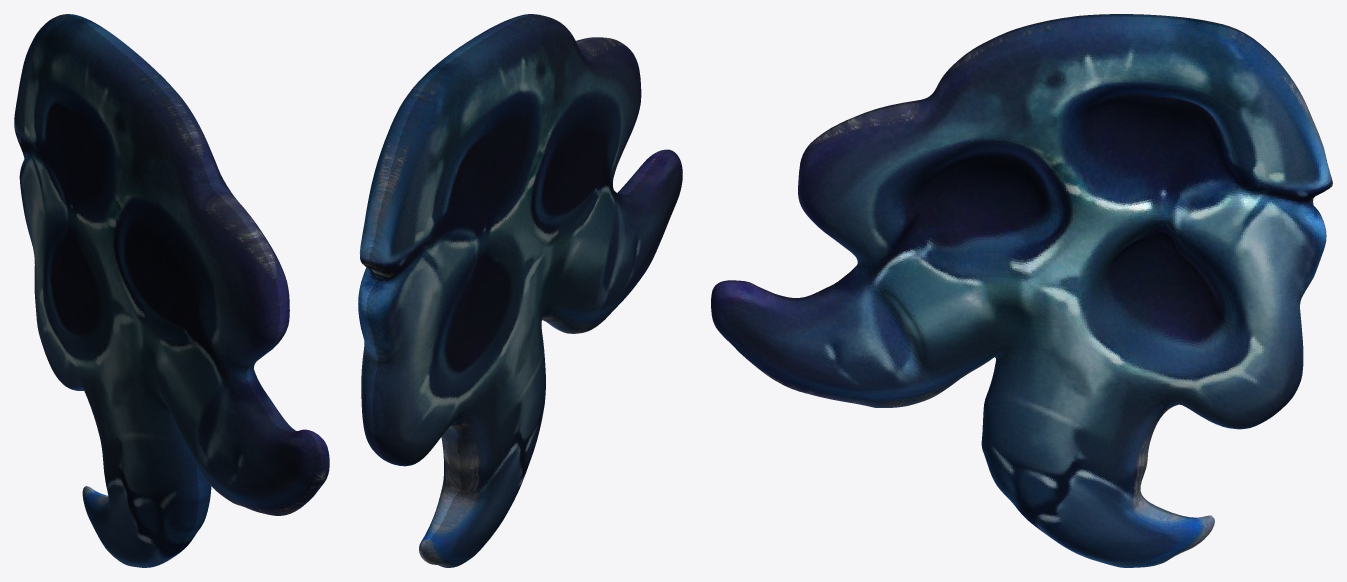
The model's file is alien_toy.glb.
3 views of the same model, side by side, from view 1: azimuth 30°, elevation 25°; view 2: azimuth 150°, elevation 25°; view 3: azimuth 270°, elevation 25° (orthographic). The views are drawn at different scales.
Size of the model in its own units: 0.2879 by 1.88 by 1.96.
Materials: 1 (1 with a texture image).
